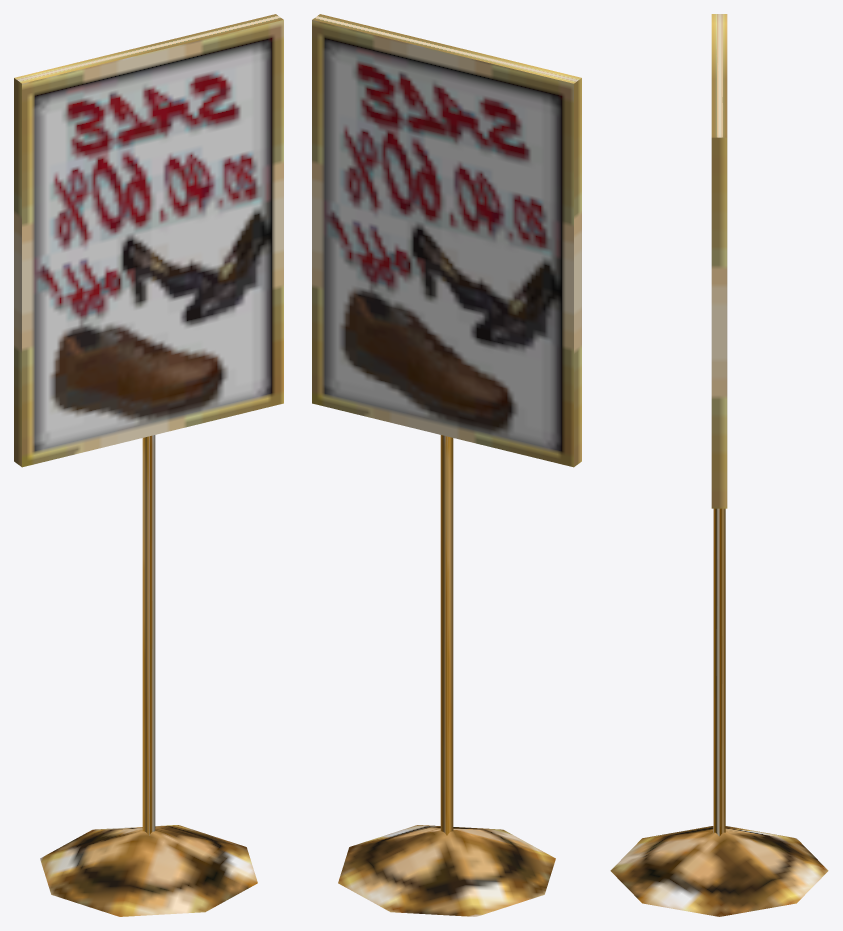
The model's file is salesign_shoes.fbx.
3 views of the same model, side by side, from view 1: azimuth 30°, elevation 25°; view 2: azimuth 150°, elevation 25°; view 3: azimuth 270°, elevation 25° (orthographic). The views are drawn at different scales.
Visible parts, largest first — view 1: mesh_0, mesh_1, mesh_2; view 2: mesh_0, mesh_1, mesh_2; view 3: mesh_1, mesh_0, mesh_2.
Part boxes in pixels (<box>): mesh_0: <box>14,14,283,467</box>; mesh_1: <box>40,825,257,916</box>; mesh_2: <box>142,435,155,835</box>; mesh_0: <box>312,14,581,467</box>; mesh_1: <box>338,825,555,916</box>; mesh_2: <box>440,435,453,835</box>; mesh_1: <box>610,826,828,916</box>; mesh_0: <box>711,14,727,508</box>; mesh_2: <box>713,508,725,836</box>.
Bounding box in the file's own units: 50 × 150 × 37.33.
1 material, 1 textured.
